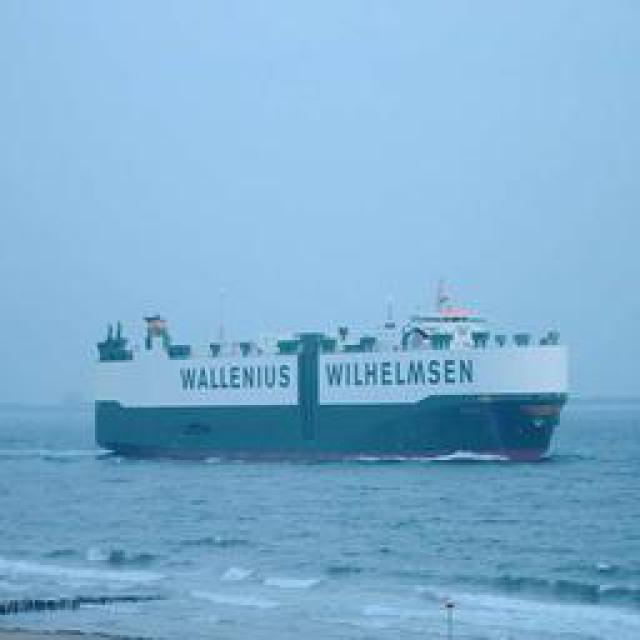Ship: (91, 289, 566, 462)
